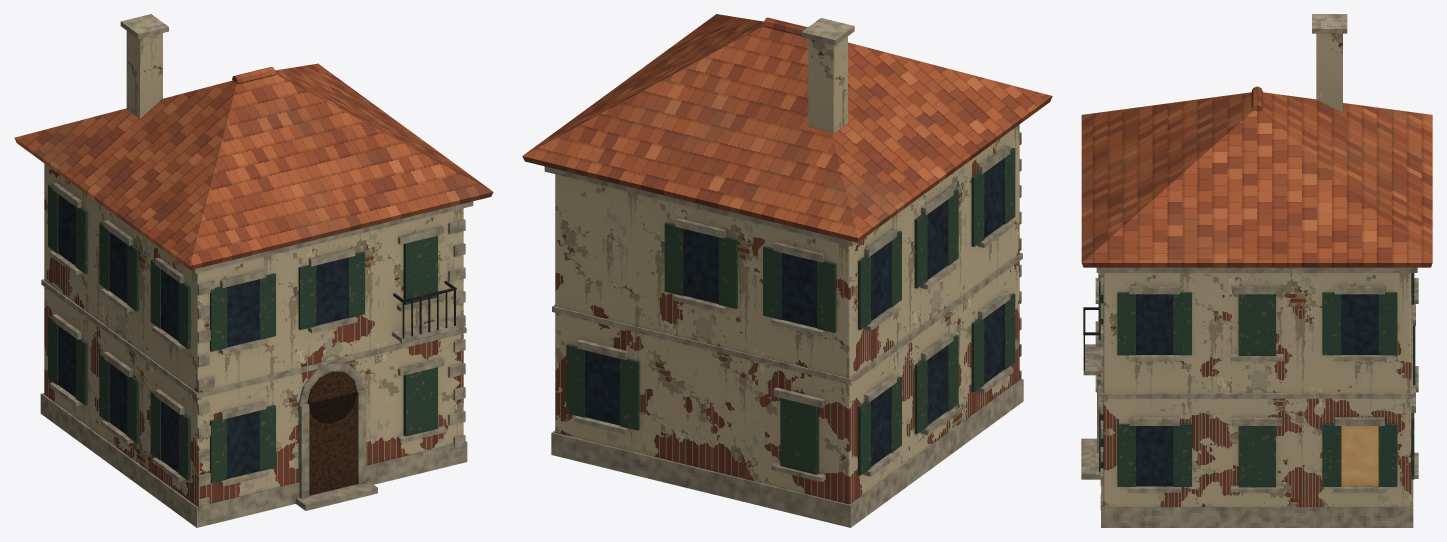
Rendered from siracusa_house_a.glb.
3 views of the same model, side by side, from view 1: azimuth 30°, elevation 25°; view 2: azimuth 150°, elevation 25°; view 3: azimuth 270°, elevation 25° (orthographic). The views are drawn at different scales.
Visible parts, largest first — view 1: siracusa_house_a.001; view 2: siracusa_house_a.001; view 3: siracusa_house_a.001.
Part boxes in pixels (x1,y1,x2,y2): siracusa_house_a.001: (14,14,493,527); siracusa_house_a.001: (522,14,1052,527); siracusa_house_a.001: (1081,14,1432,527).
Size of the model in its own units: 7.98 by 10.16 by 7.99.
8 materials, 8 textured.
